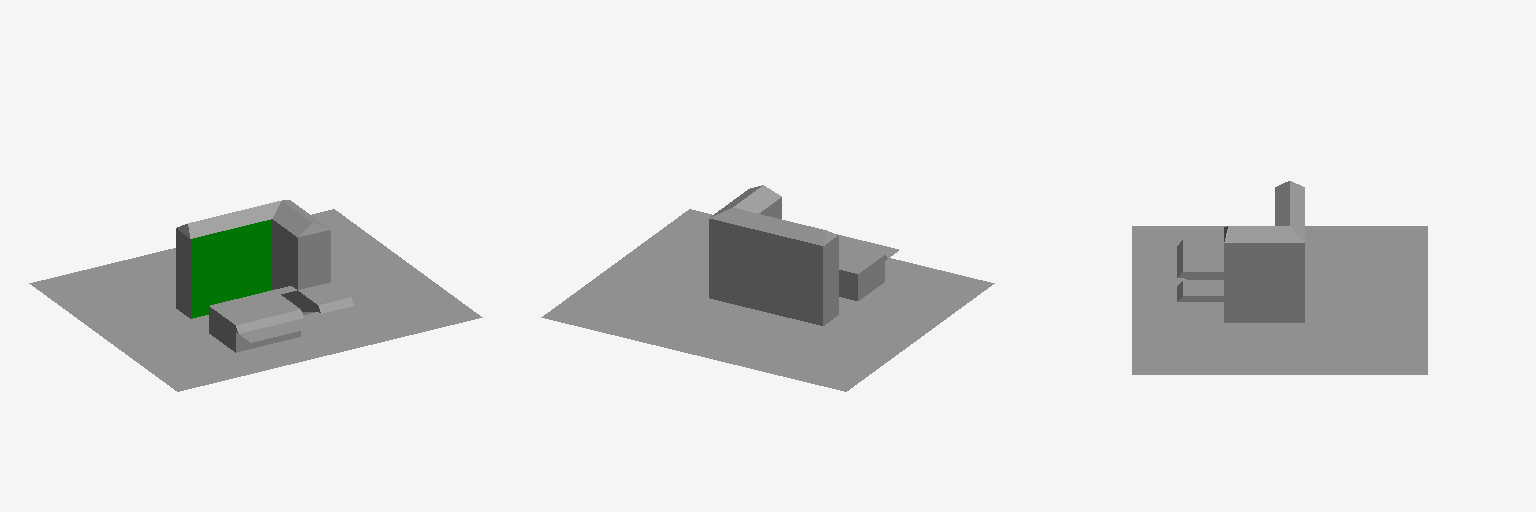
The model's file is avenc.obj.
3 renders of one model, left to right at view 1: azimuth 30°, elevation 25°; view 2: azimuth 150°, elevation 25°; view 3: azimuth 270°, elevation 25°, orthographic.
Parts seen in each view (by area): view 1: Cube.001; view 2: Cube.001; view 3: Cube.001.
Boxes of the visible parts, <box> form: Cube.001: <box>29,200,482,391</box>; Cube.001: <box>541,185,994,391</box>; Cube.001: <box>1132,181,1427,374</box>.
Size of the model in its own units: 73.07 by 20.39 by 61.53.